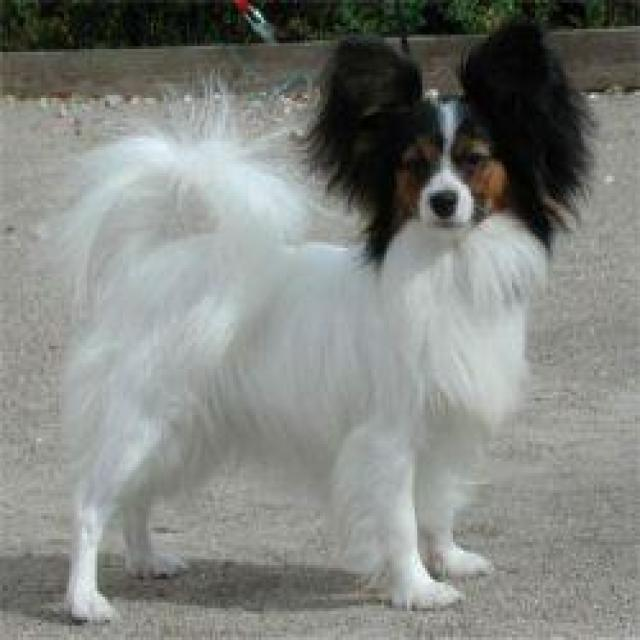papillon: (59, 12, 594, 626)
